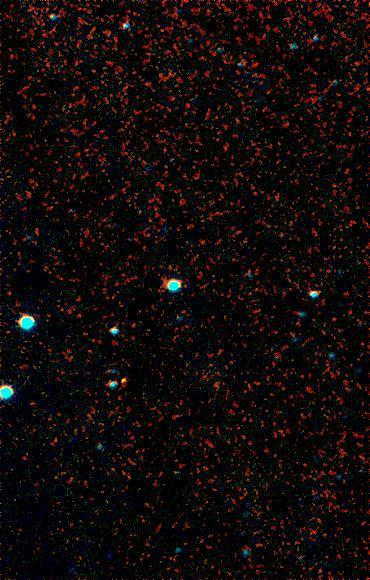star: (108, 374, 138, 404)
